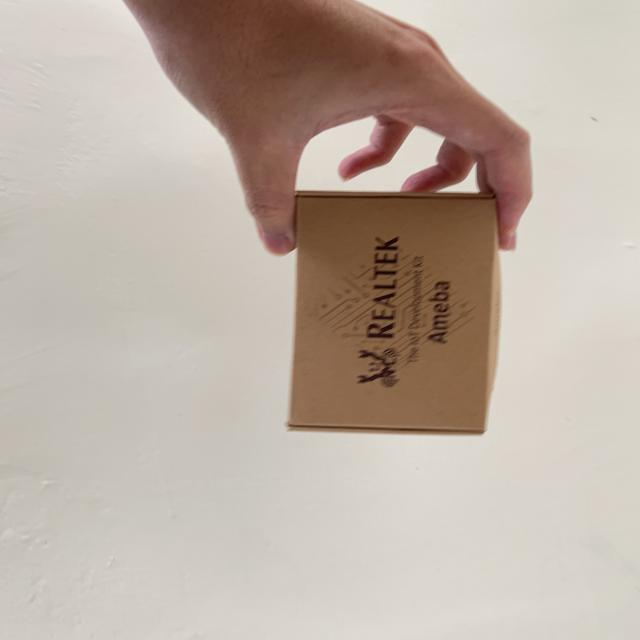box: (268, 173, 522, 464)
